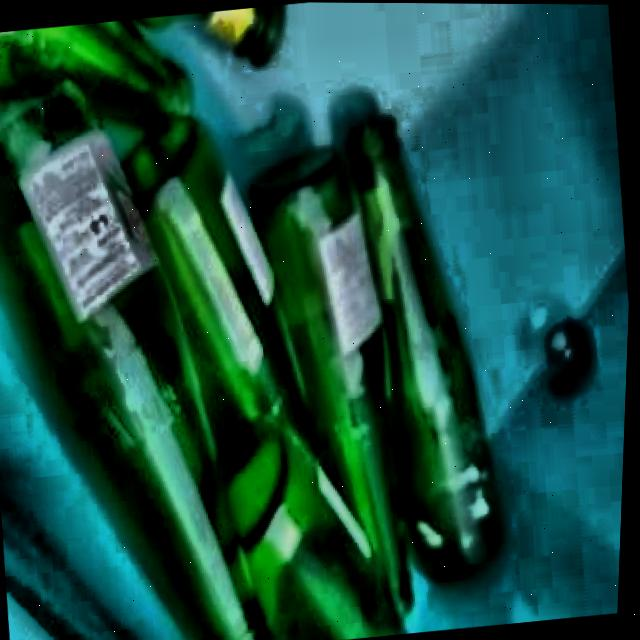glass: (0, 19, 503, 640)
